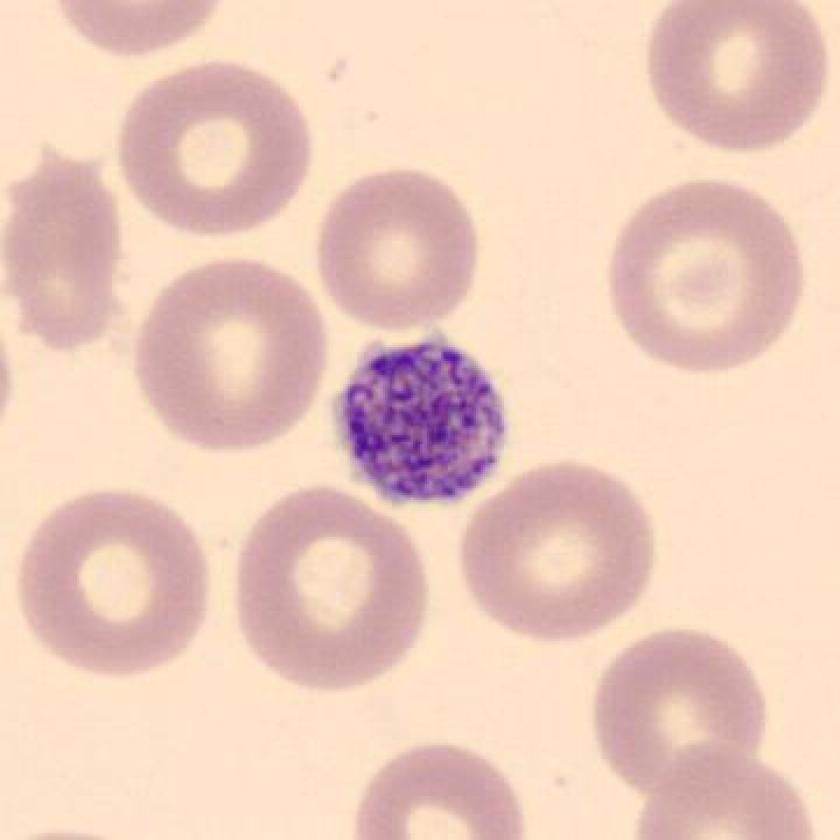platelets: (318, 323, 526, 524)
